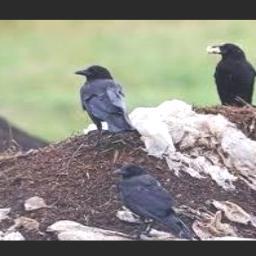Crow: (112, 164, 193, 240), (72, 65, 134, 133), (208, 43, 256, 106)
